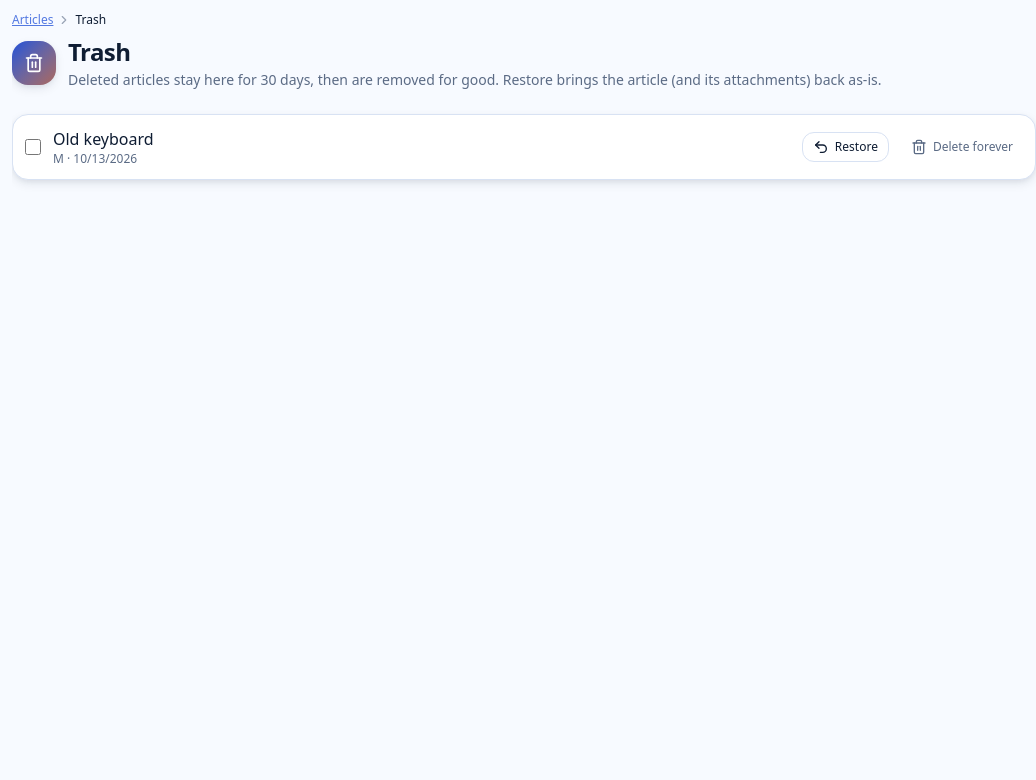
Test: <ArticlesTrash /> › requires the inline confirm step before purging
Expected: the text "Old keyboard" is shown, [53, 128, 154, 150]
Click the button "Delete forever" at [962, 147], box [901, 133, 1023, 161]
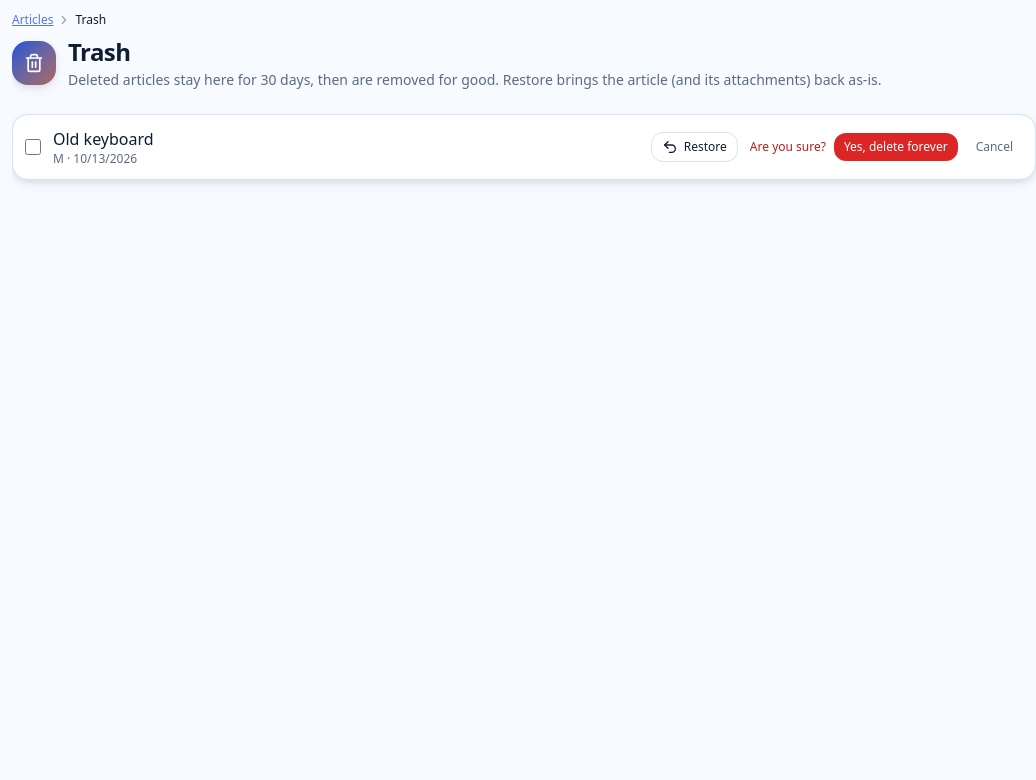
Result: the text "Are you sure?" is shown at [750, 139, 826, 155]
// The confirm button — labelled "Yes, delete forever" — fires the purge.
Click the button "Yes, delete forever" at [896, 147], box [834, 133, 958, 161]
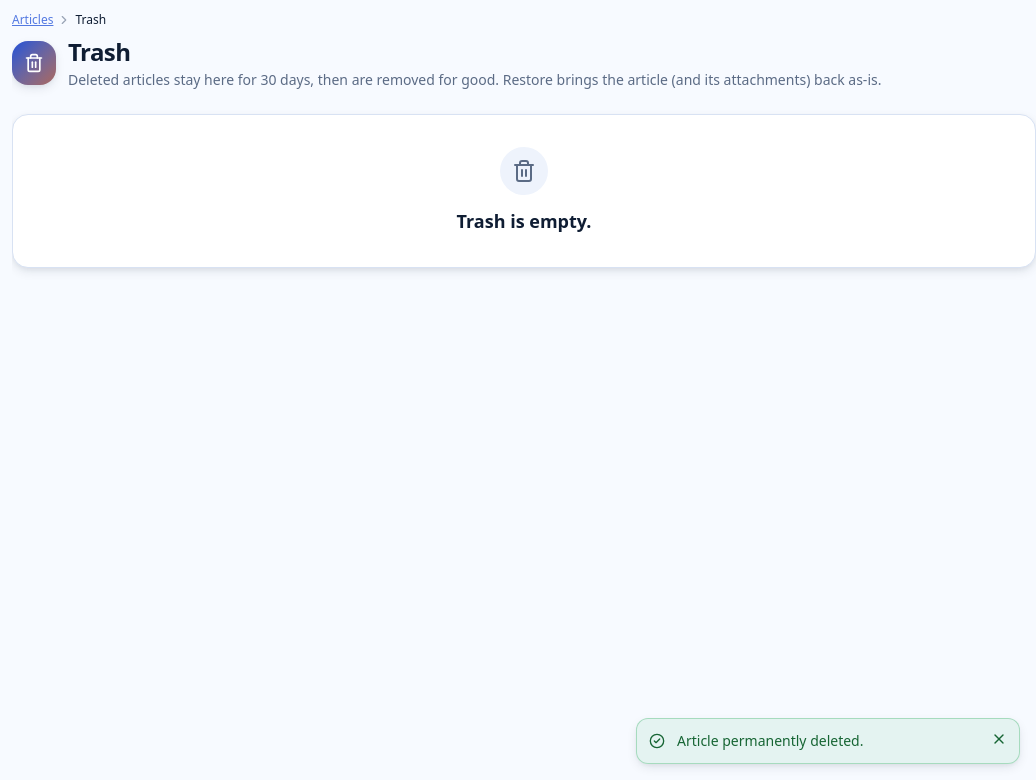
Result: the text "Old keyboard" is gone
